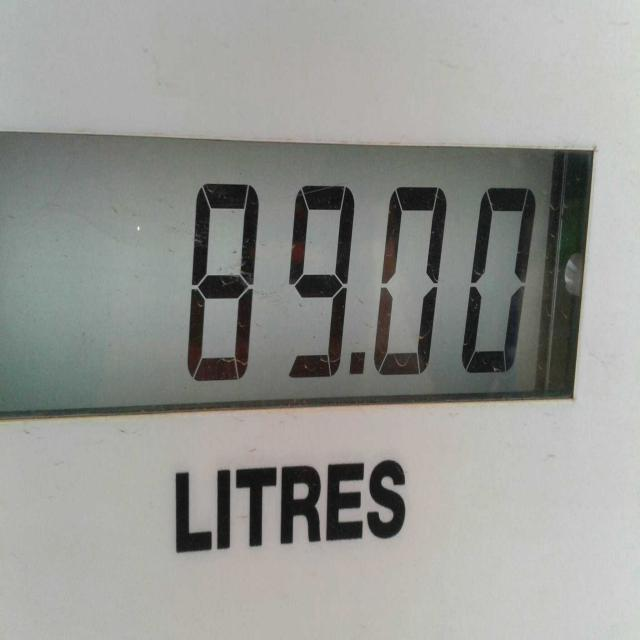.: (341, 343, 378, 393)
0: (370, 176, 458, 382), (461, 183, 540, 386)
8: (172, 177, 275, 382)
9: (276, 172, 360, 396)
